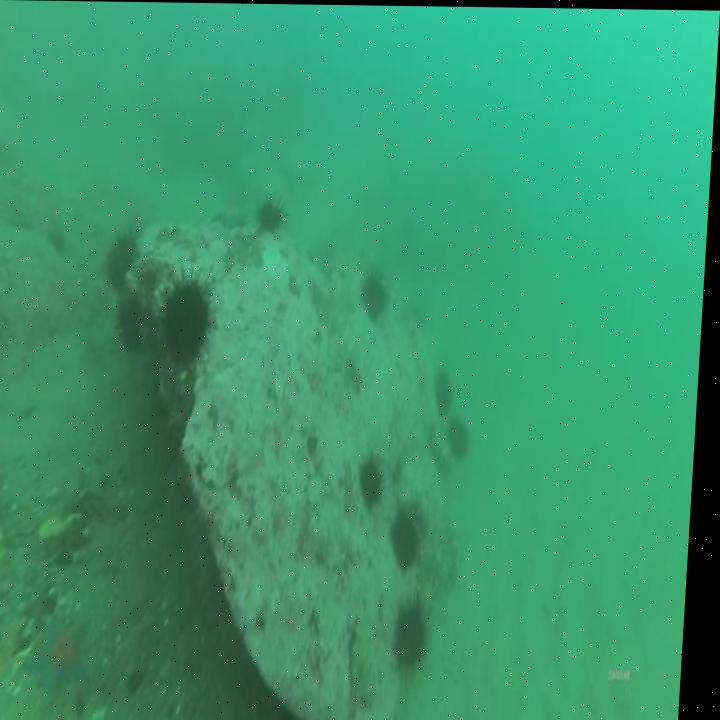echinus: (163, 285, 215, 360), (401, 604, 436, 668), (396, 513, 428, 569), (107, 243, 139, 290), (362, 267, 391, 318), (122, 308, 153, 354), (365, 460, 391, 506), (455, 418, 478, 463), (439, 373, 458, 413), (262, 202, 287, 229)
starfish: (30, 621, 99, 693)
